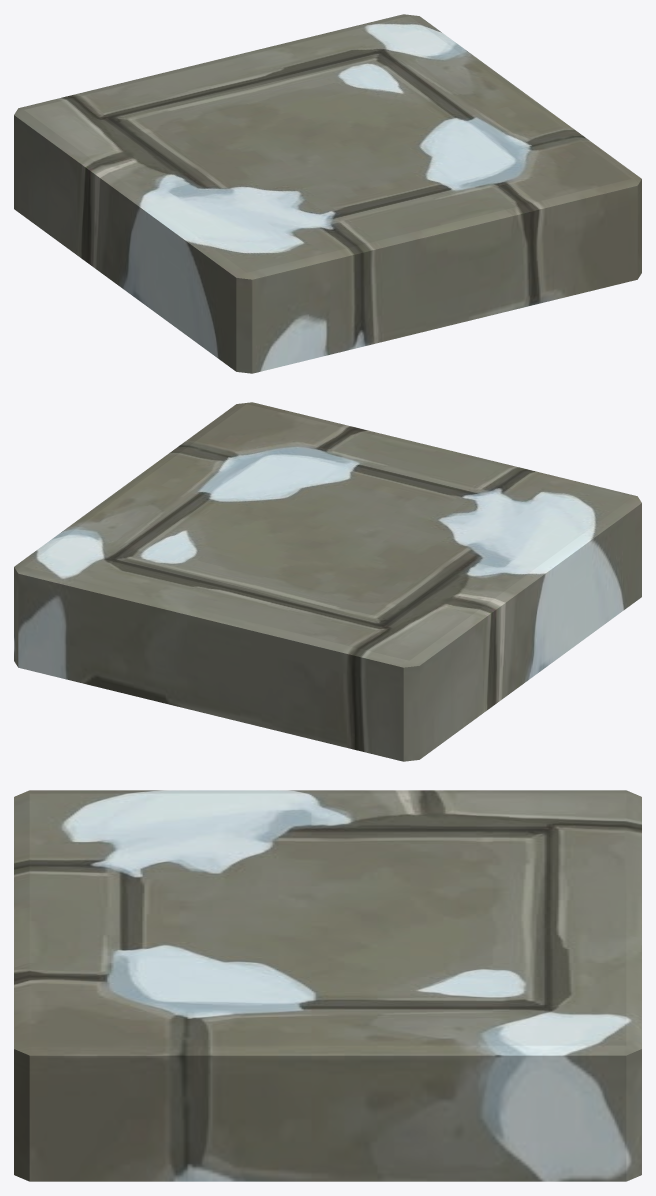
Rendered from stoneTiles03.glb.
3 renders of one model, top to bottom at view 1: azimuth 30°, elevation 25°; view 2: azimuth 150°, elevation 25°; view 3: azimuth 270°, elevation 25°, orthographic. The views are drawn at different scales.
Visible parts, largest first — view 1: StoneTiles03; view 2: StoneTiles03; view 3: StoneTiles03.
Boxes of the visible parts, x1,y1,x2,y2 form: StoneTiles03: (14, 14, 641, 373); StoneTiles03: (14, 402, 641, 761); StoneTiles03: (14, 790, 641, 1181).
Bounding box in the file's own units: 3 × 0.7 × 3.
Materials: 1 (1 with a texture image).
